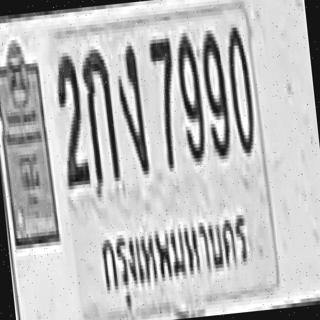A01: (79, 44, 120, 183)
A07: (112, 40, 148, 171)
N00: (223, 21, 256, 152)
N02: (52, 50, 88, 184)
N07: (146, 33, 181, 167)
N09: (172, 28, 207, 159), (197, 26, 232, 156)
P04: (90, 203, 258, 313)
